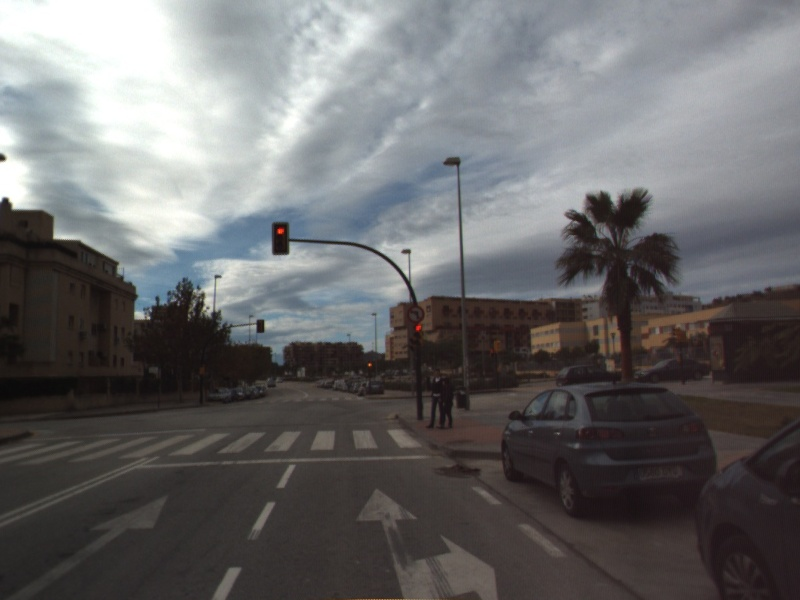STRAIGHT: (3, 493, 170, 600)
STRAIGHT_RIGHT: (352, 486, 500, 600)
